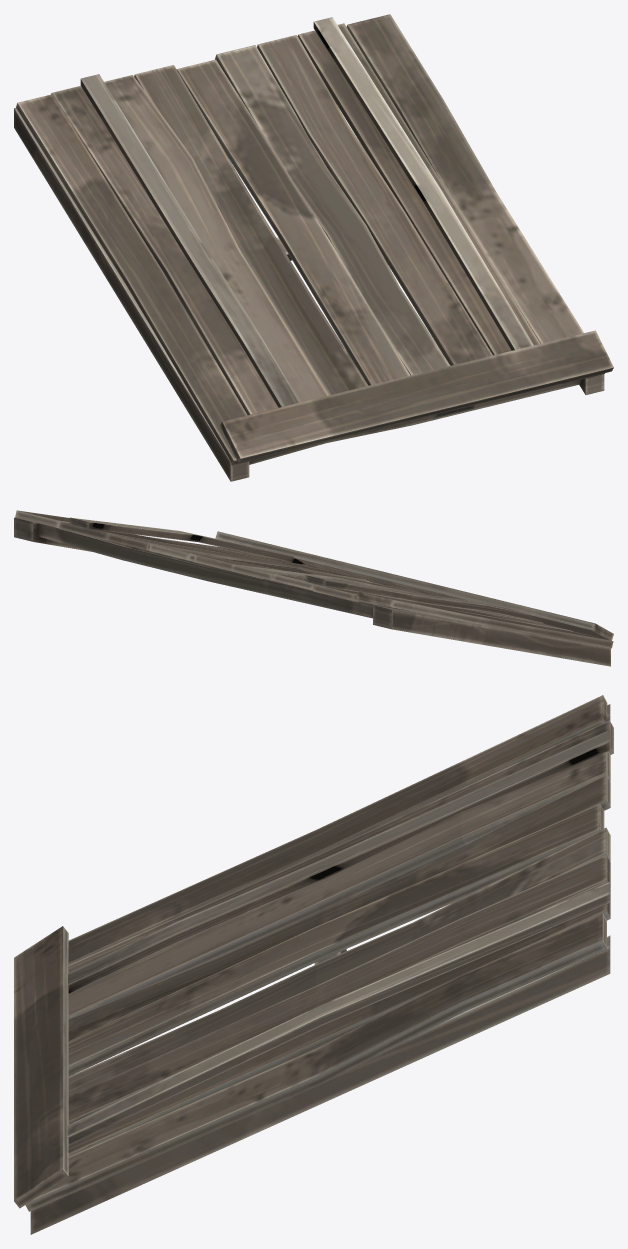
Rendered from Wood_Roof_2x2.glb.
3 views of the same model, one above another, from view 1: azimuth 30°, elevation 25°; view 2: azimuth 150°, elevation 25°; view 3: azimuth 270°, elevation 25° (orthographic). The views are drawn at different scales.
Parts seen in each view (by area): view 1: Wood_Roof_2x2; view 2: Wood_Roof_2x2; view 3: Wood_Roof_2x2.
Part boxes in pixels (<box>): Wood_Roof_2x2: <box>14,14,613,481</box>; Wood_Roof_2x2: <box>14,510,613,666</box>; Wood_Roof_2x2: <box>14,695,613,1234</box>.
Size of what is drawn, in the model's own units: 2.02 by 1.17 by 2.08.
Materials: 1 (1 with a texture image).
